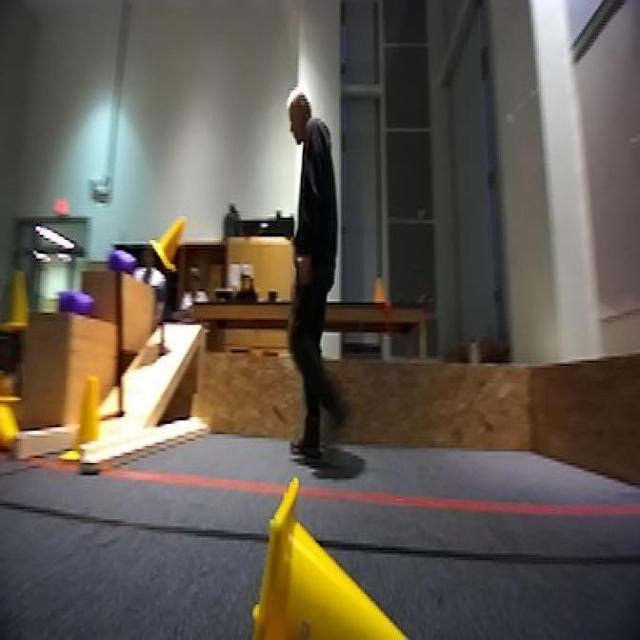frc_cone: (246, 475, 424, 640), (66, 373, 103, 463), (147, 216, 190, 274), (4, 267, 31, 330), (0, 392, 24, 449)
frc_cube: (57, 283, 97, 313), (104, 247, 135, 277)
